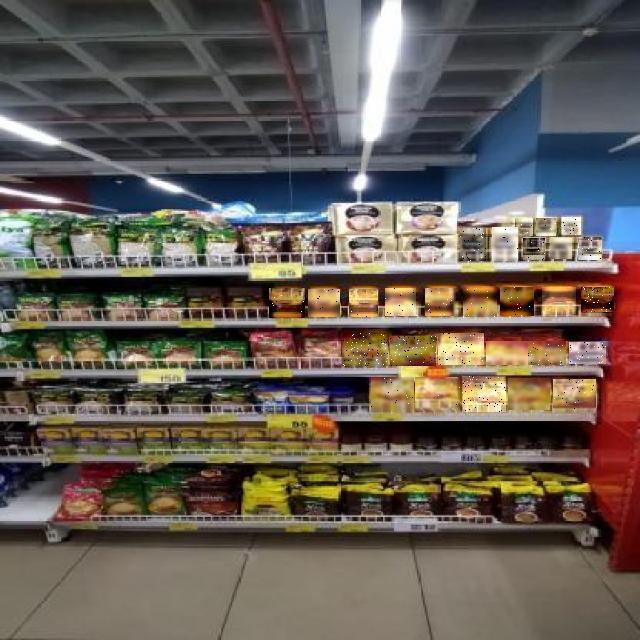Coffee: (463, 376, 507, 412), (343, 332, 389, 366), (416, 378, 462, 412), (438, 333, 484, 365), (371, 378, 414, 412), (390, 336, 436, 366), (553, 380, 596, 412), (508, 378, 550, 410), (269, 288, 305, 318), (486, 341, 528, 365), (542, 287, 576, 316), (500, 287, 534, 316), (463, 288, 497, 317), (581, 288, 614, 316), (528, 341, 566, 365), (426, 289, 458, 317), (386, 289, 418, 317), (350, 289, 382, 317), (309, 289, 341, 317), (493, 227, 519, 261), (460, 228, 486, 261), (569, 342, 606, 364), (578, 237, 602, 260), (523, 238, 545, 260), (550, 238, 572, 259), (536, 218, 556, 236), (562, 217, 581, 235), (515, 218, 533, 236)
